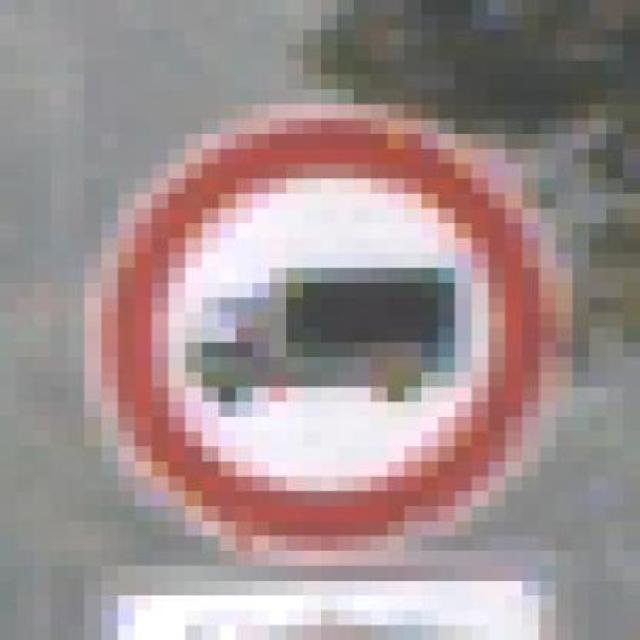Truck traffic is prohibited: (71, 81, 594, 558)
